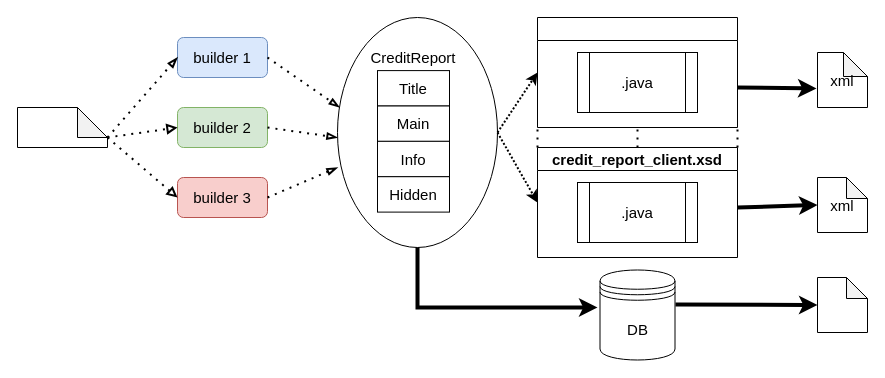
This 885x378 diagram has some shape labels left out. Here are the shapes that lost their labels. From the top down, the box of each, then its label:
(536, 16, 738, 128): credit_report_cbr.xsd
(16, 106, 108, 148): Запрос
(816, 276, 868, 332): json
